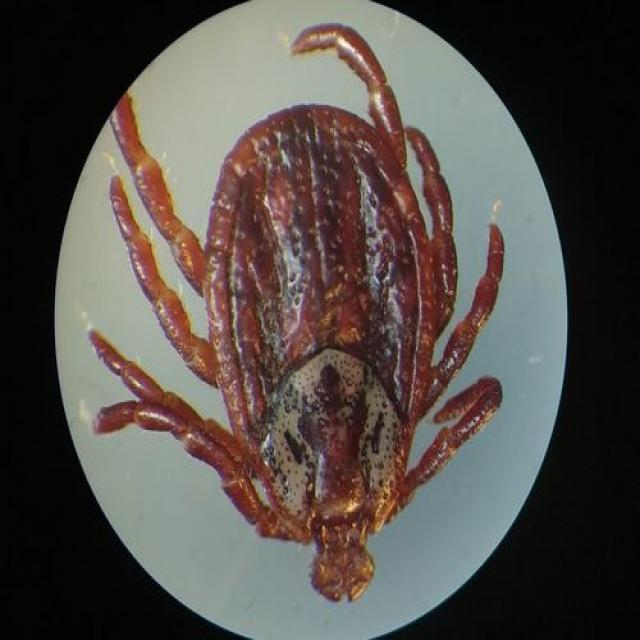Dermacentor Reticulatus-F: (88, 23, 507, 602)
